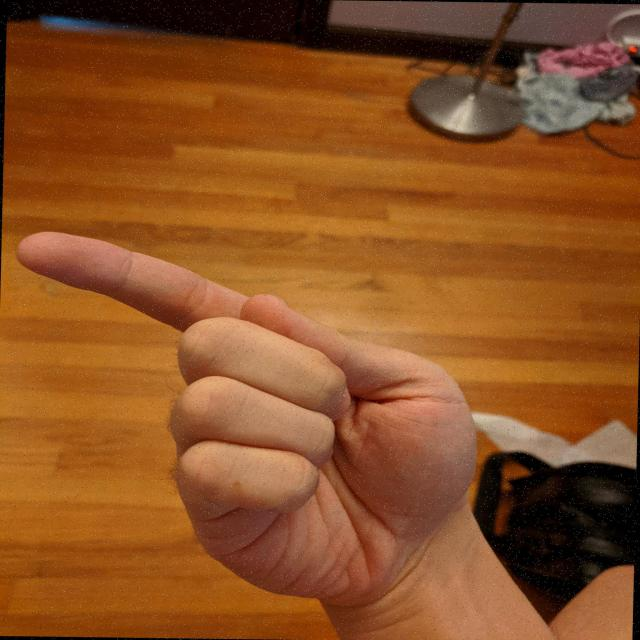G: (0, 224, 495, 614)
